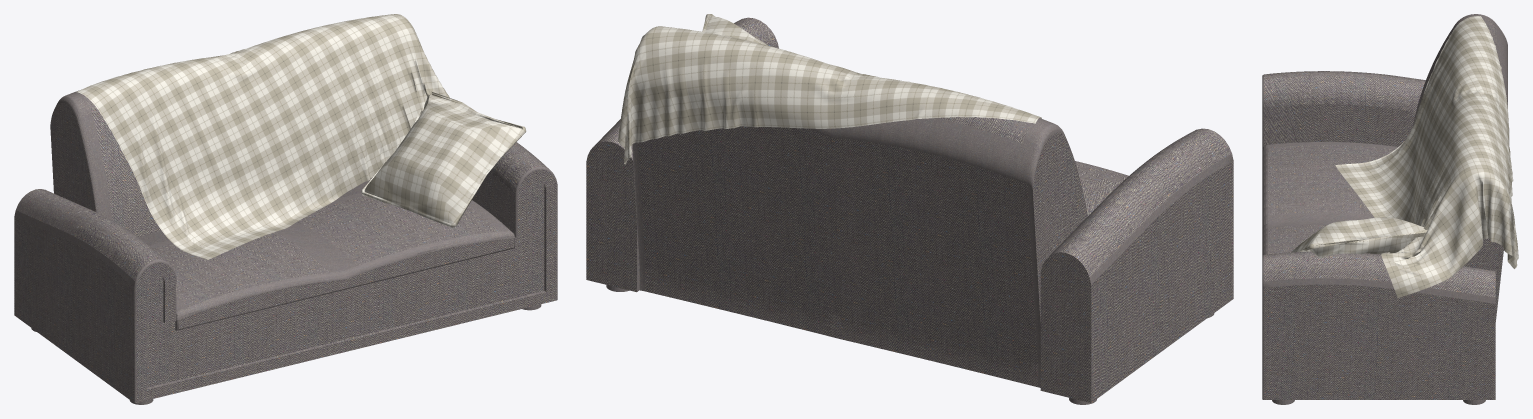
File: sofa_couch.glb
3 views of the same model, side by side, from view 1: azimuth 30°, elevation 25°; view 2: azimuth 150°, elevation 25°; view 3: azimuth 270°, elevation 25° (orthographic). The views are drawn at different scales.
Visible parts, largest first — view 1: Material3.004, Material2.020; view 2: Material3.004, Material2.020; view 3: Material3.004, Material2.020.
Part boxes in pixels (bbox=[...]): Material3.004: bbox=[14, 89, 557, 404]; Material2.020: bbox=[77, 14, 526, 259]; Material3.004: bbox=[586, 17, 1233, 404]; Material2.020: bbox=[618, 14, 1041, 164]; Material3.004: bbox=[1262, 14, 1507, 404]; Material2.020: bbox=[1291, 16, 1518, 297].
Bounding box in the file's own units: 90.81 × 46.93 × 48.97.
Materials: 5 (3 with a texture image).
